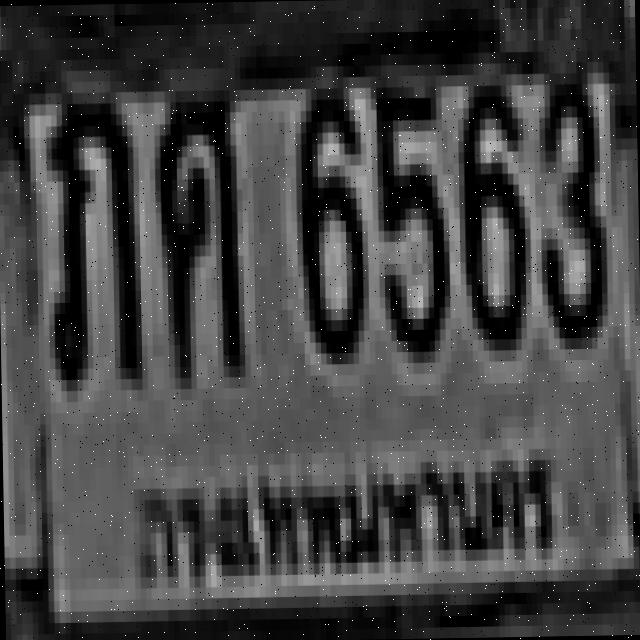3: (532, 66, 602, 332)
41PhorSamPhao: (45, 92, 136, 380)
47SorSala: (153, 73, 240, 372)
5: (370, 75, 445, 352)
6: (454, 73, 524, 340), (291, 82, 361, 348)
Bangkok: (120, 422, 560, 610)
